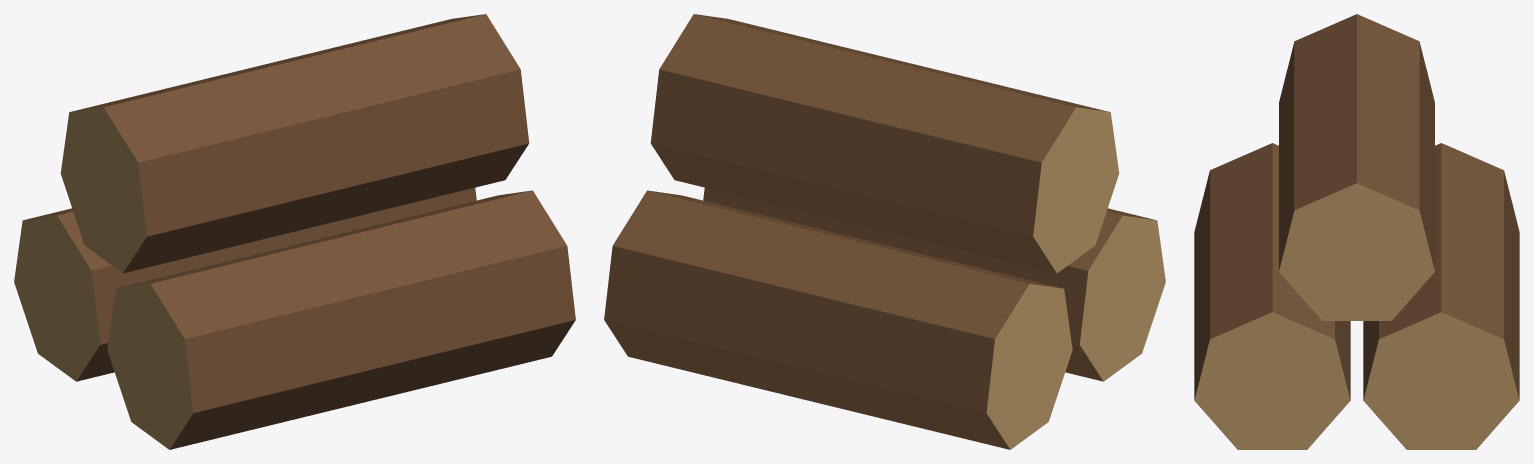
The model's file is item_wood.glb.
3 renders of one model, left to right at view 1: azimuth 30°, elevation 25°; view 2: azimuth 150°, elevation 25°; view 3: azimuth 270°, elevation 25°, orthographic. The views are drawn at different scales.
Visible parts, largest first — view 1: item_wood; view 2: item_wood; view 3: item_wood.
Boxes of the visible parts, x1,y1,x2,y2 form: item_wood: [14, 14, 575, 449]; item_wood: [604, 14, 1165, 449]; item_wood: [1194, 14, 1519, 449].
Bounding box in the file's own units: 0.9 × 0.6622 × 0.731.
